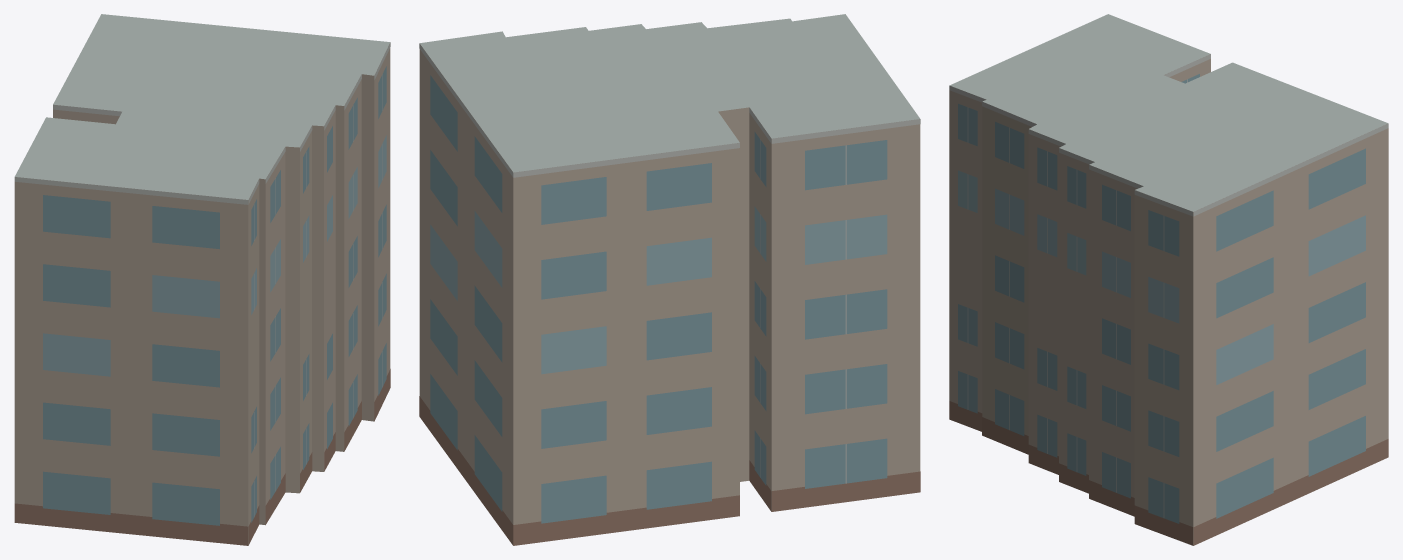
Rendered from survey-upis-33038274.glb.
3 views of the same model, side by side, from view 1: azimuth 30°, elevation 25°; view 2: azimuth 150°, elevation 25°; view 3: azimuth 270°, elevation 25° (orthographic). The views are drawn at different scales.
Visible parts, largest first — view 1: survey-upis-33038274.tmp; view 2: survey-upis-33038274.tmp; view 3: survey-upis-33038274.tmp.
Part boxes in pixels (box(x1,y1,x2,y2)): survey-upis-33038274.tmp: box(14, 14, 390, 545); survey-upis-33038274.tmp: box(419, 14, 920, 545); survey-upis-33038274.tmp: box(949, 14, 1388, 545).
Bounding box in the file's own units: 21.93 × 17.25 × 20.56.
